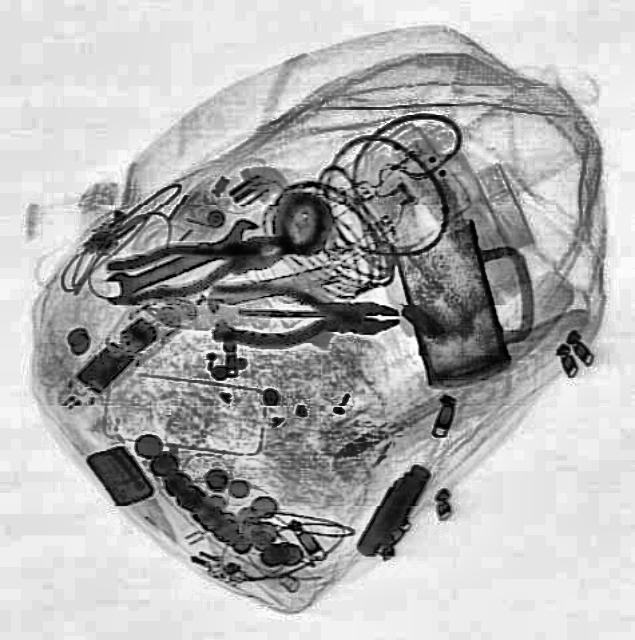Pliers: (102, 214, 290, 314), (209, 279, 401, 347)
Wrench: (94, 212, 266, 310)
